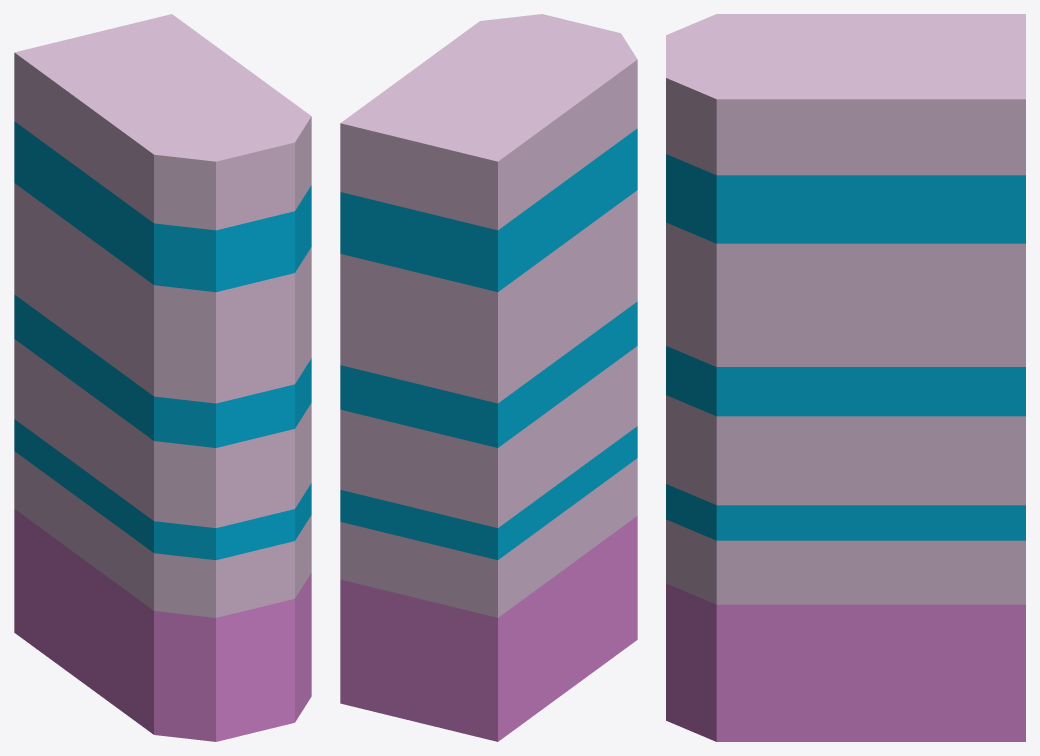
Rendered from housr2.fbx.
3 renders of one model, left to right at view 1: azimuth 30°, elevation 25°; view 2: azimuth 150°, elevation 25°; view 3: azimuth 270°, elevation 25°, orthographic. The views are drawn at different scales.
Parts seen in each view (by area): view 1: pCube30; view 2: pCube30; view 3: pCube30.
Boxes of the visible parts, left/top/right/bottom form: pCube30: left=14, top=14, right=311, bottom=741; pCube30: left=340, top=14, right=637, bottom=741; pCube30: left=666, top=14, right=1025, bottom=741.
Size of the model in its own units: 0.1014 by 0.3567 by 0.1809.
